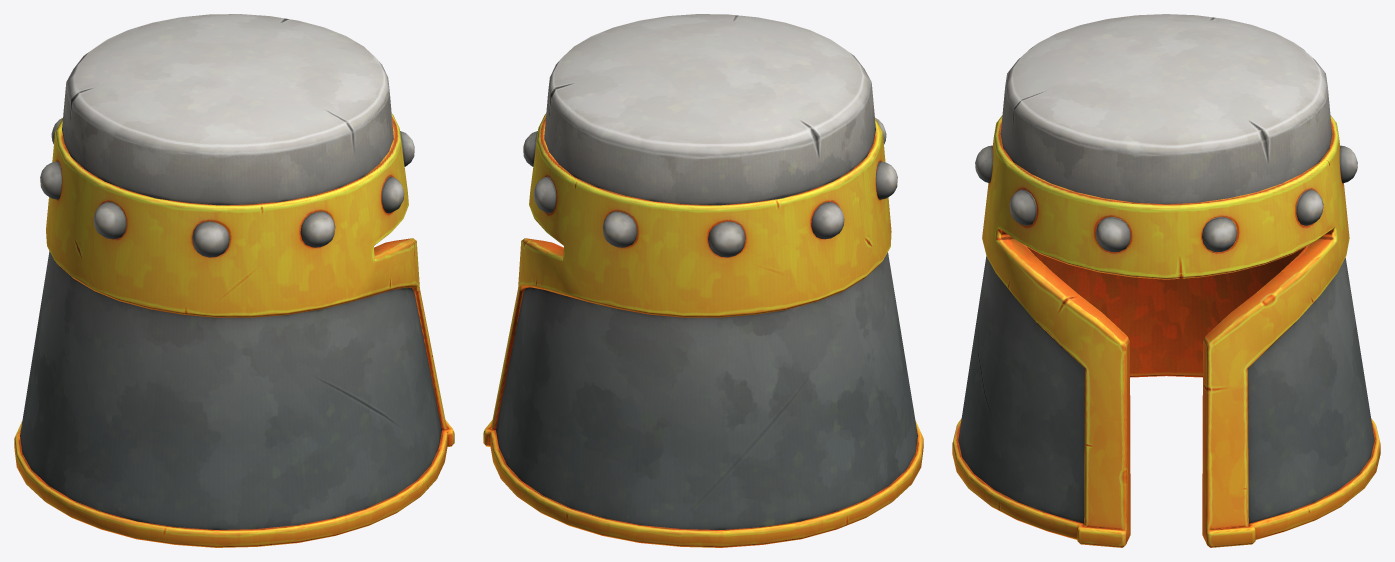
The model's file is SM_Knight_Helmet.fbx.
3 renders of one model, left to right at view 1: azimuth 30°, elevation 25°; view 2: azimuth 150°, elevation 25°; view 3: azimuth 270°, elevation 25°, orthographic.
Visible parts, largest first — view 1: SM_Knight_Helmet_LOD0; view 2: SM_Knight_Helmet_LOD0; view 3: SM_Knight_Helmet_LOD0.
Part boxes in pixels (x1,y1,x2,y2): SM_Knight_Helmet_LOD0: [14, 14, 454, 547]; SM_Knight_Helmet_LOD0: [483, 14, 923, 547]; SM_Knight_Helmet_LOD0: [952, 14, 1380, 547].
Size of the model in its own units: 29.15 by 28.93 by 29.53.
1 material, 1 textured.
